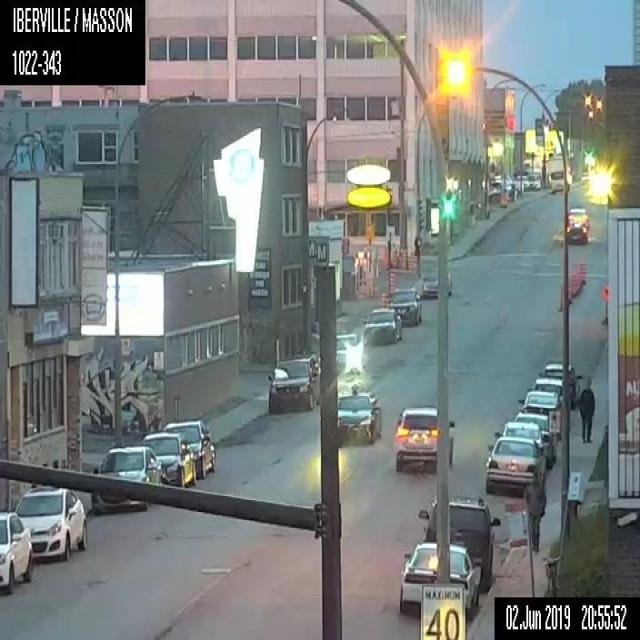construction: (386, 269, 397, 294), (570, 268, 576, 299), (579, 258, 586, 284), (602, 287, 607, 320), (379, 292, 388, 308)
pedestrian: (526, 477, 546, 552), (577, 380, 595, 443)
vehicle: (416, 495, 502, 590), (397, 538, 475, 617), (88, 442, 164, 512), (14, 487, 88, 558), (392, 404, 456, 473), (266, 352, 320, 413), (483, 440, 542, 494), (164, 418, 217, 478), (0, 509, 34, 598), (140, 431, 192, 486), (334, 386, 380, 444), (358, 306, 402, 344), (518, 386, 565, 416), (332, 334, 362, 379), (389, 288, 421, 323), (546, 156, 571, 193), (566, 206, 589, 246), (422, 269, 452, 299), (499, 421, 541, 441), (538, 359, 575, 378)
